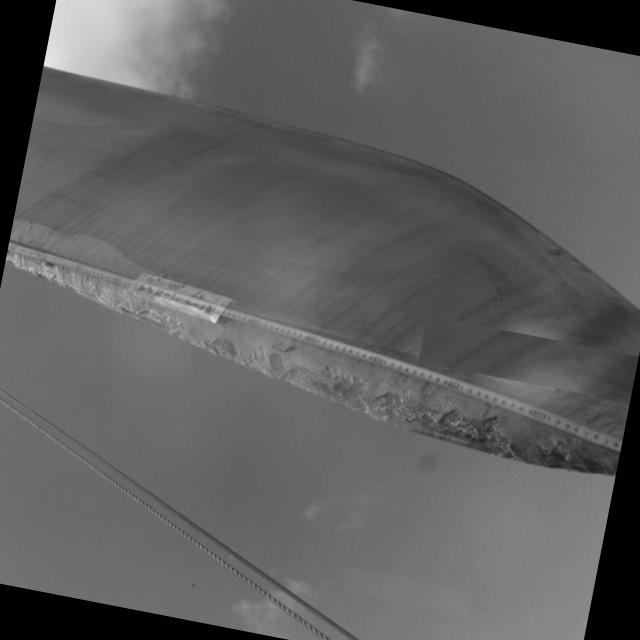corrosion: (361, 380, 619, 481), (172, 318, 374, 407), (6, 256, 181, 321)
